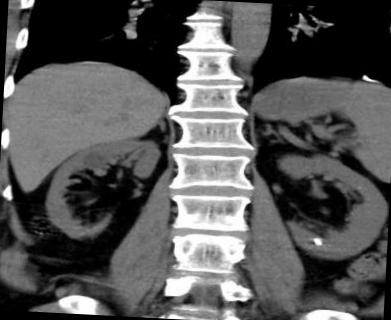Tas_Var: (312, 237, 324, 247)
